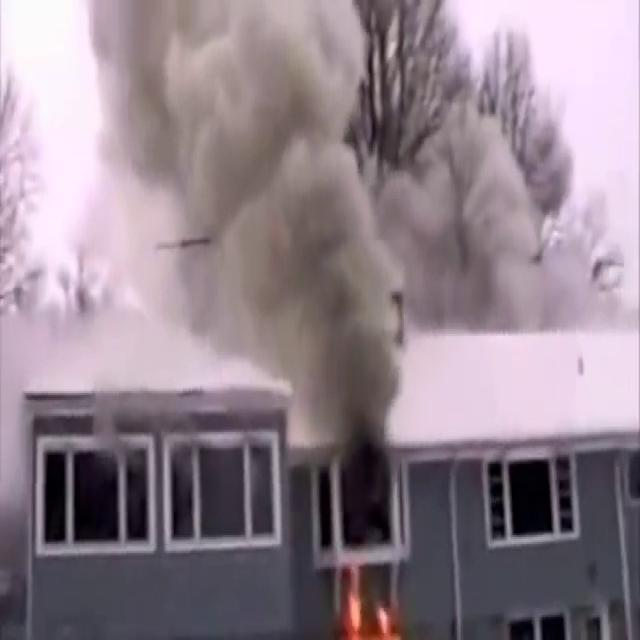Smoke: (41, 0, 614, 407)
